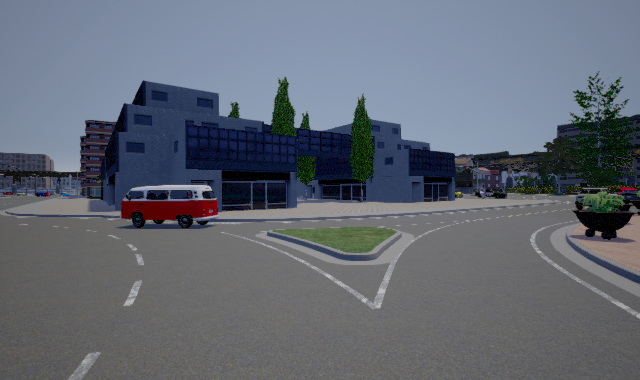vehicle: (120, 185, 219, 228), (575, 186, 640, 210)
